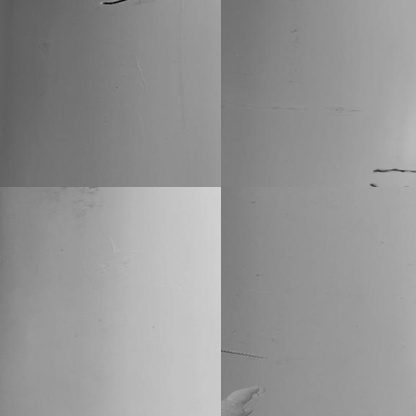fengxi: (371, 161, 411, 174)
sunshang: (222, 382, 264, 413), (219, 345, 264, 362)
